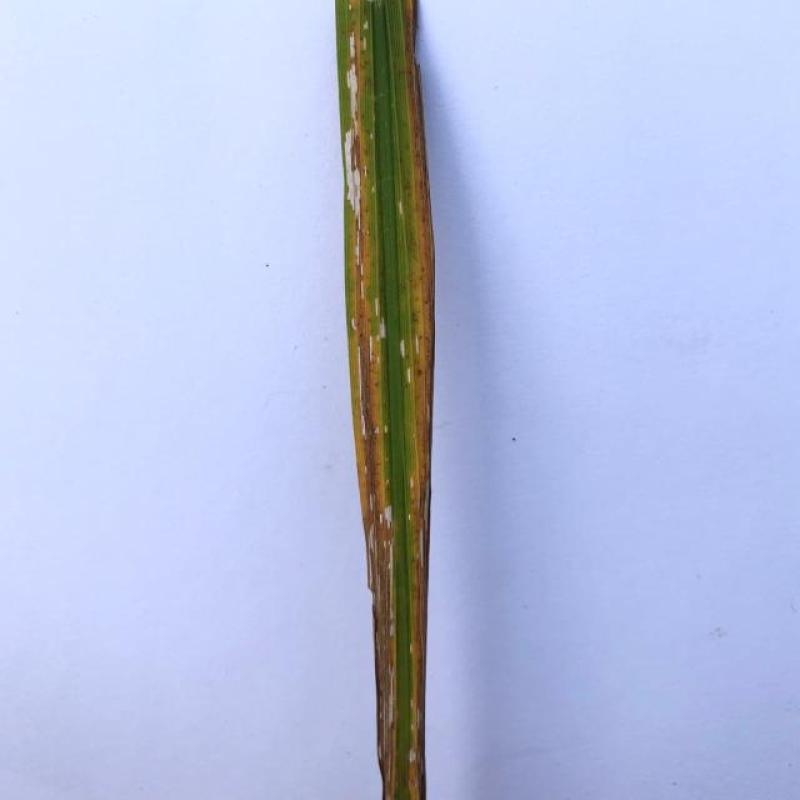Rice Tungro: (341, 115, 391, 604), (398, 0, 427, 800)
